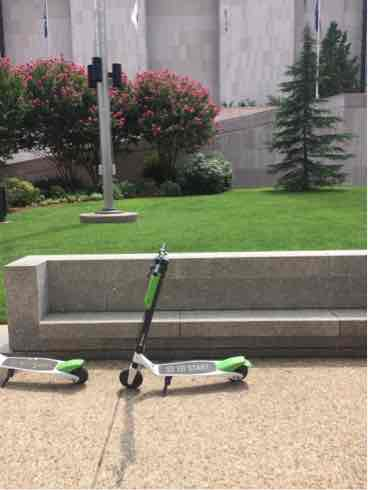scooter: (112, 242, 257, 398)
